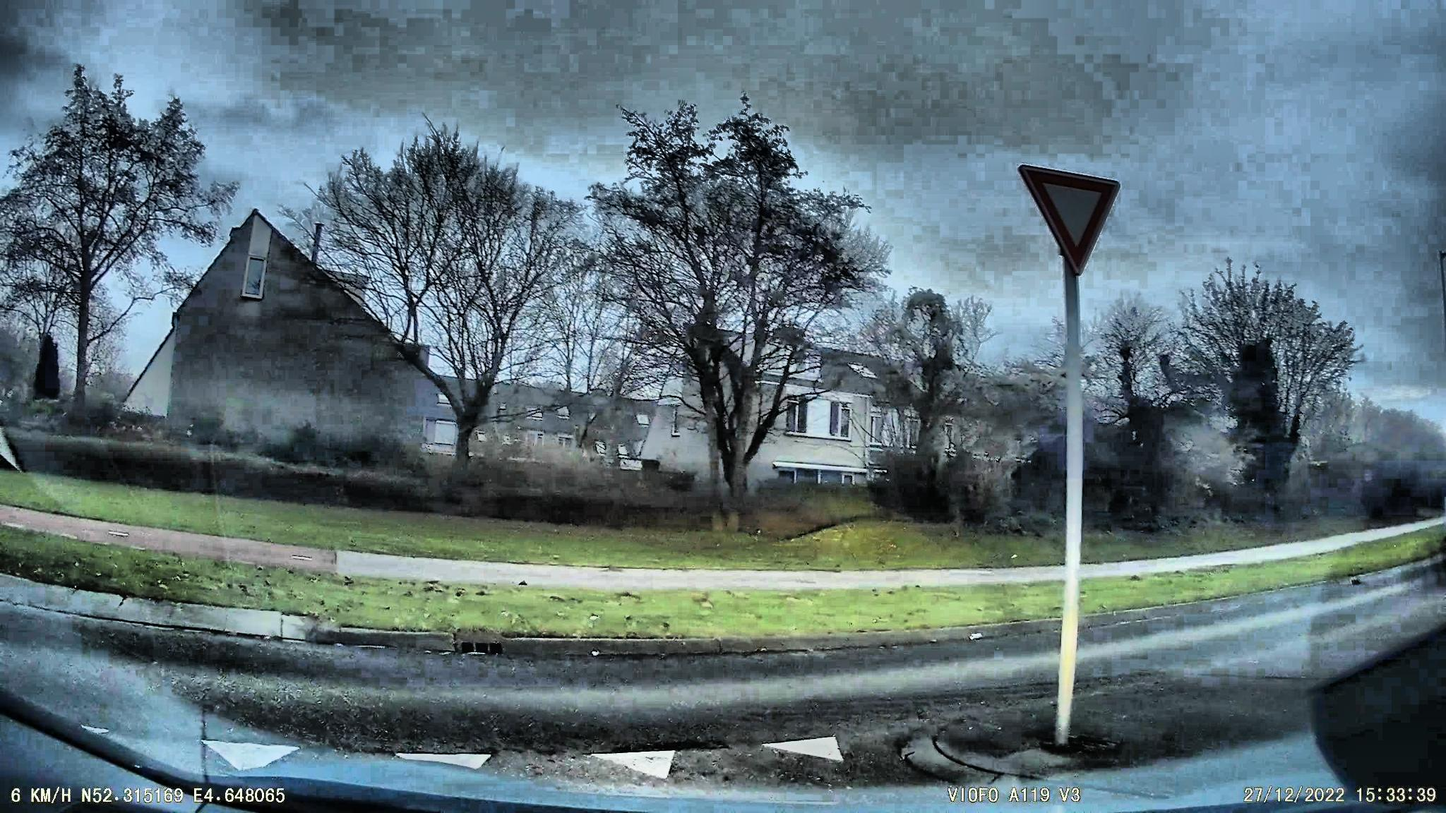Roads: (0, 613, 1061, 813), (1074, 567, 1446, 688)
